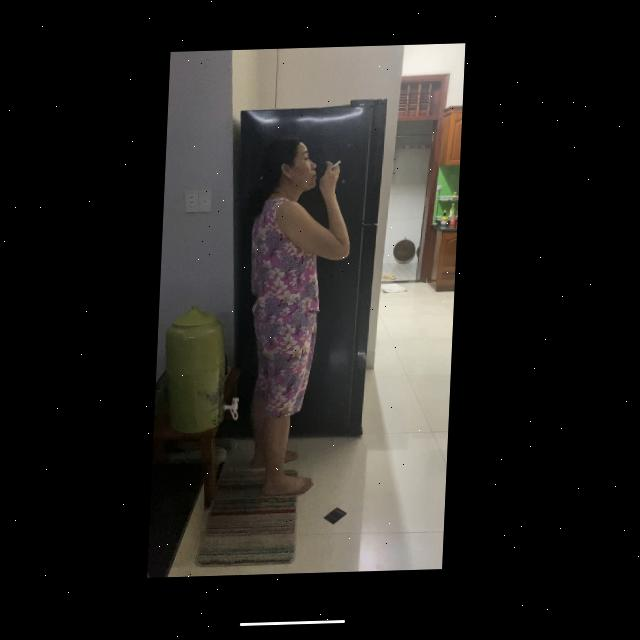cigarette: (326, 162, 342, 174)
